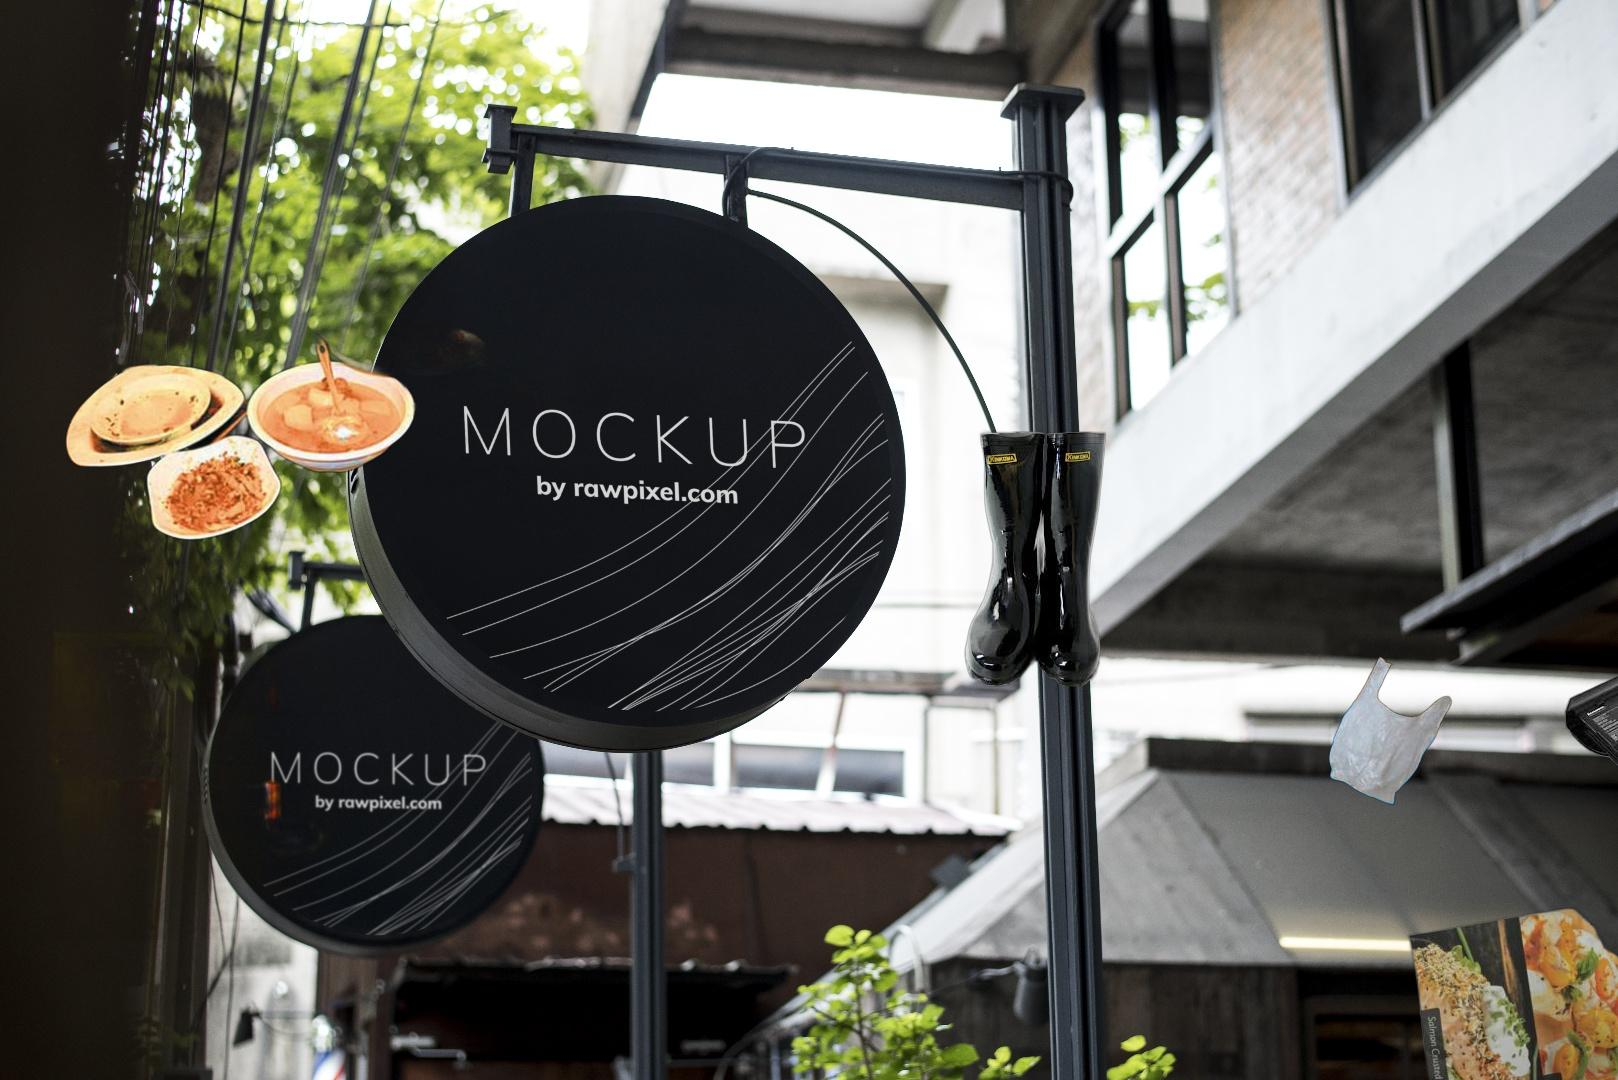battery: (45, 630, 355, 940), (1563, 620, 1618, 771)
biological: (61, 212, 601, 570)
paper: (1405, 884, 1618, 1080)
paper-bag: (1601, 885, 1618, 1080)
plastic-bag: (1326, 655, 1455, 808)
shoes: (961, 428, 1110, 687), (1610, 912, 1618, 1080)
